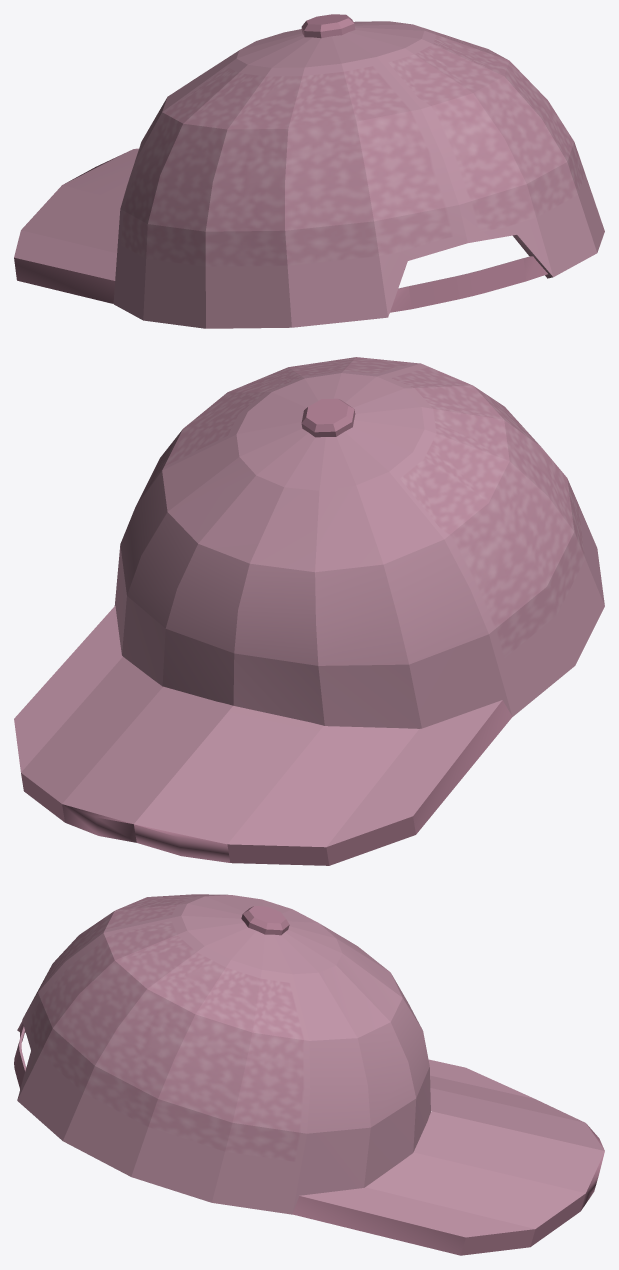
The model's file is backwardstruckerpink.glb.
3 renders of one model, top to bottom at view 1: azimuth 30°, elevation 25°; view 2: azimuth 150°, elevation 25°; view 3: azimuth 270°, elevation 25°, orthographic. The views are drawn at different scales.
Visible parts, largest first — view 1: CapDark_Sphere; view 2: CapDark_Sphere; view 3: CapDark_Sphere.
Boxes of the visible parts, x1,y1,x2,y2 form: CapDark_Sphere: (14,14,604,328); CapDark_Sphere: (14,357,604,865); CapDark_Sphere: (14,894,604,1255).
Bounding box in the file's own units: 5.94 × 4.1 × 8.07.
2 materials, 2 textured.
